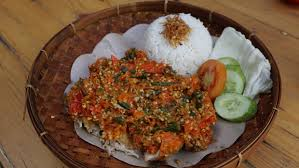ayam_geprek: (43, 44, 195, 153)
